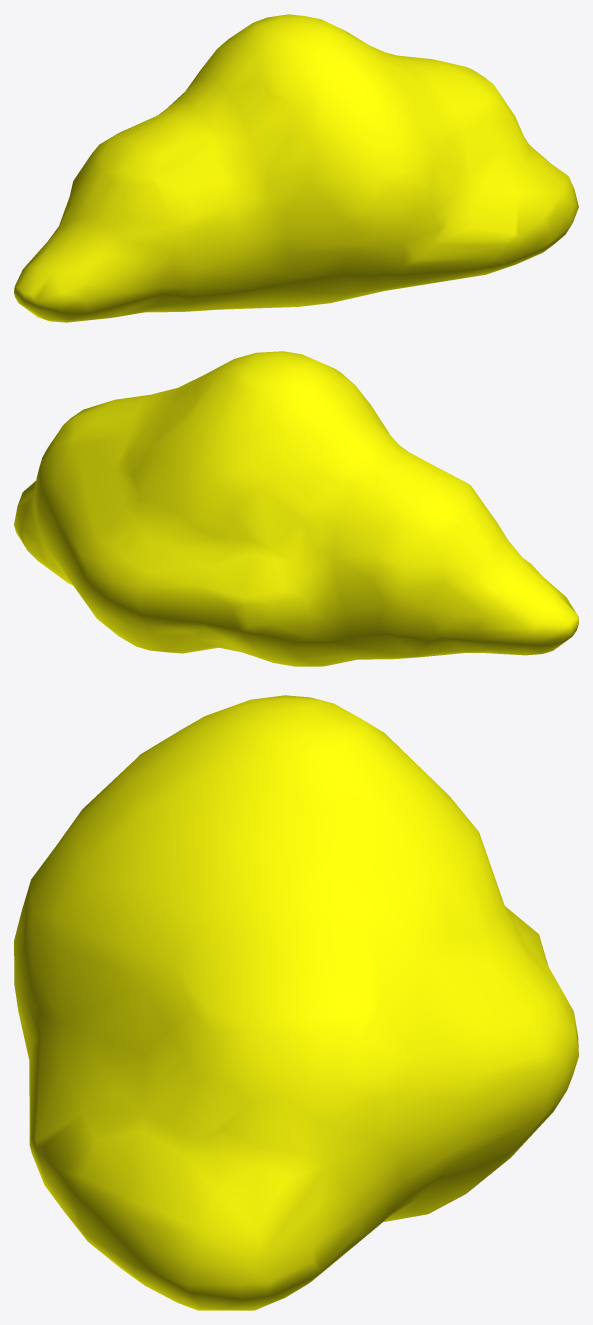
The model's file is cloud_b.glb.
3 renders of one model, top to bottom at view 1: azimuth 30°, elevation 25°; view 2: azimuth 150°, elevation 25°; view 3: azimuth 270°, elevation 25°, orthographic. The views are drawn at different scales.
Parts seen in each view (by area): view 1: SM_Cloud_02; view 2: SM_Cloud_02; view 3: SM_Cloud_02.
Boxes of the visible parts, <box> form: SM_Cloud_02: <box>14,14,578,322</box>; SM_Cloud_02: <box>14,351,578,666</box>; SM_Cloud_02: <box>14,695,578,1310</box>.
Bounding box in the file's own units: 7.37 × 3.46 × 4.04.
